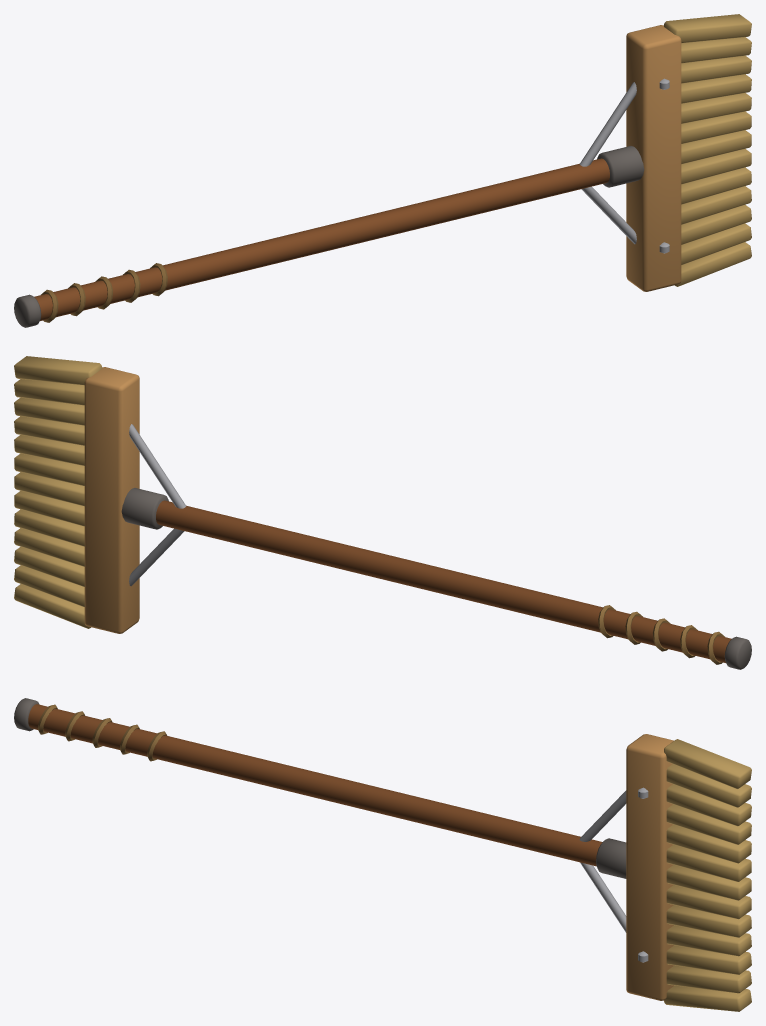
The model's file is sweeper_broom.glb.
3 views of the same model, one above another, from view 1: azimuth 30°, elevation 25°; view 2: azimuth 150°, elevation 25°; view 3: azimuth 330°, elevation 25° (orthographic).
Visible parts, largest first — view 1: Head, Handle; view 2: Head, Handle; view 3: Head, Handle.
Boxes of the visible parts, left/top/right/bottom form: Head: left=579, top=14, right=751, bottom=291; Handle: left=14, top=146, right=644, bottom=327; Head: left=14, top=356, right=186, bottom=633; Handle: left=121, top=488, right=751, bottom=669; Head: left=579, top=734, right=751, bottom=1011; Handle: left=14, top=698, right=626, bottom=878.
Bounding box in the file's own units: 1.59 × 0.5411 × 0.0879.
